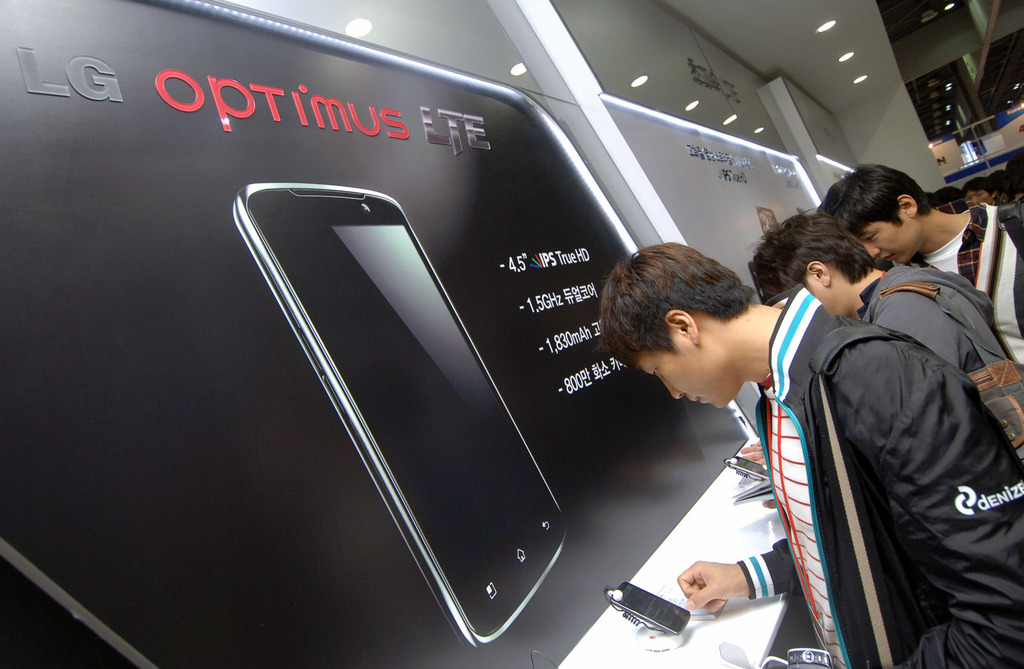Mobile-phone: (235, 178, 566, 649), (610, 581, 694, 634), (722, 453, 766, 481)
